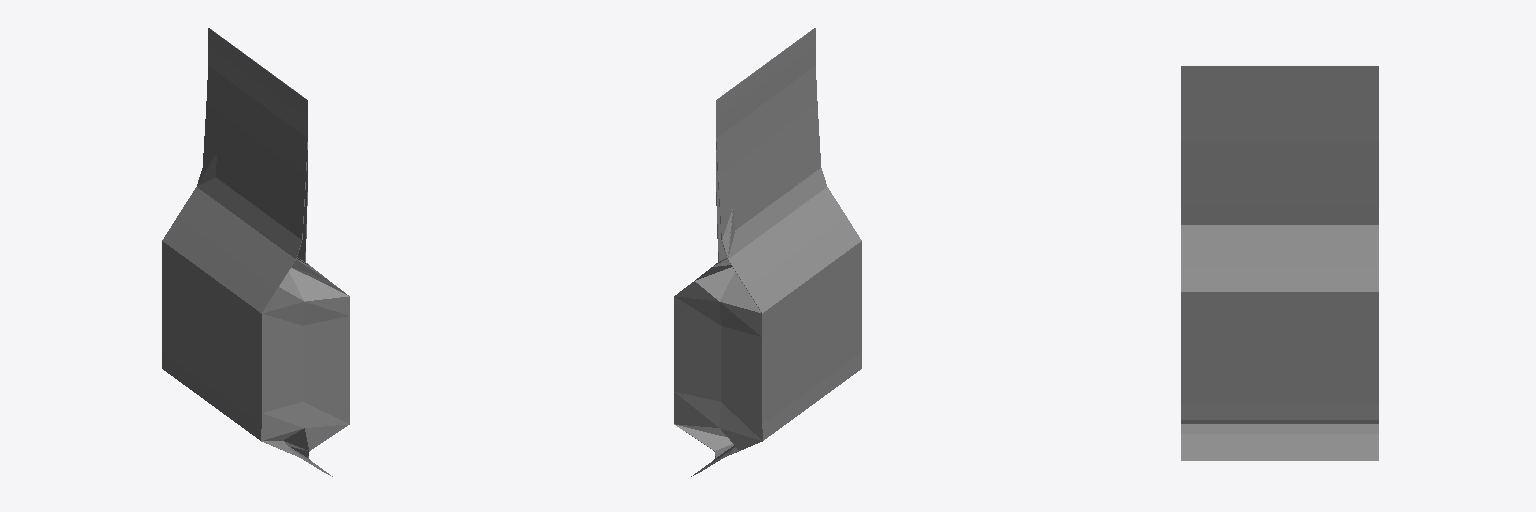
File: PDMODEL.obj
3 renders of one model, left to right at view 1: azimuth 30°, elevation 25°; view 2: azimuth 150°, elevation 25°; view 3: azimuth 270°, elevation 25°, orthographic.
Visible parts, largest first — view 1: Box002, Box005; view 2: Box002, Box006; view 3: Box001.
Boxes of the visible parts, x1=… form: Box002: x1=162, y1=28, x2=328, y2=474; Box005: x1=262, y1=150, x2=349, y2=470; Box002: x1=695, y1=28, x2=861, y2=474; Box006: x1=674, y1=150, x2=761, y2=470; Box001: x1=1181, y1=66, x2=1378, y2=460.
Size of the model in its own units: 46.91 by 193 by 90.82.